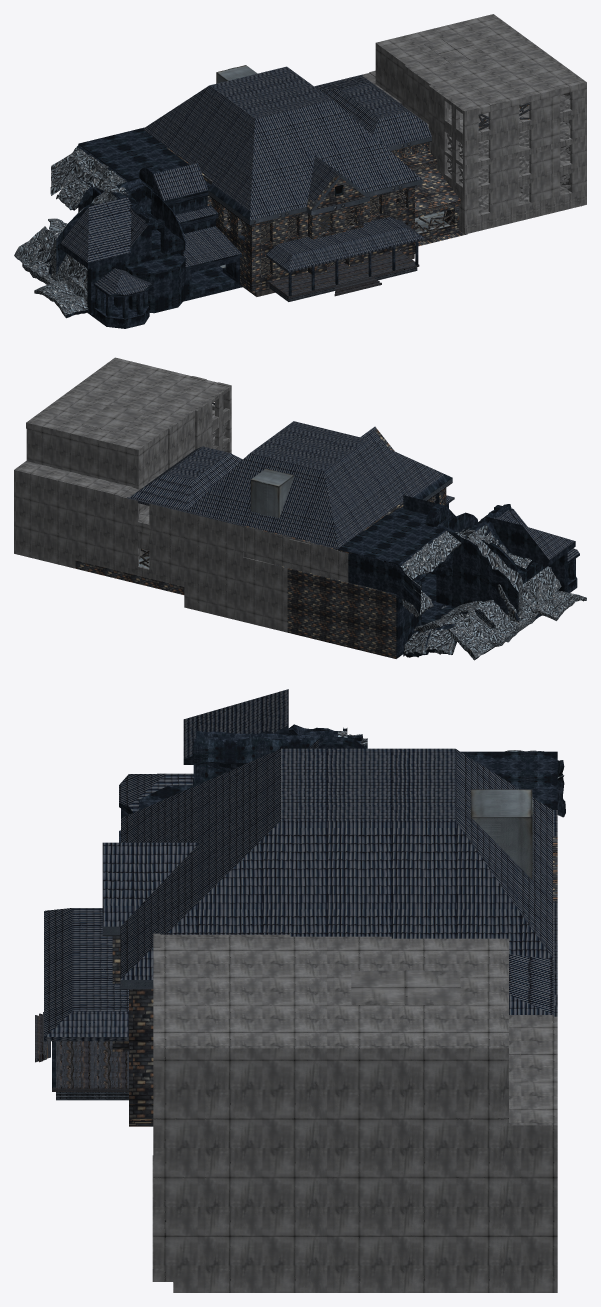
The model's file is HospitalAbandon.fbx.
3 renders of one model, top to bottom at view 1: azimuth 30°, elevation 25°; view 2: azimuth 150°, elevation 25°; view 3: azimuth 270°, elevation 25°, orthographic. The views are drawn at different scales.
Parts seen in each view (by area): view 1: RUINS.008; view 2: RUINS.008; view 3: RUINS.008.
Boxes of the visible parts, bbox=[...] form: RUINS.008: bbox=[14, 14, 586, 328]; RUINS.008: bbox=[14, 357, 586, 660]; RUINS.008: bbox=[35, 689, 565, 1292].
Size of the model in its own units: 2212 by 637 by 1051.
Materials: 13 (13 with a texture image).
